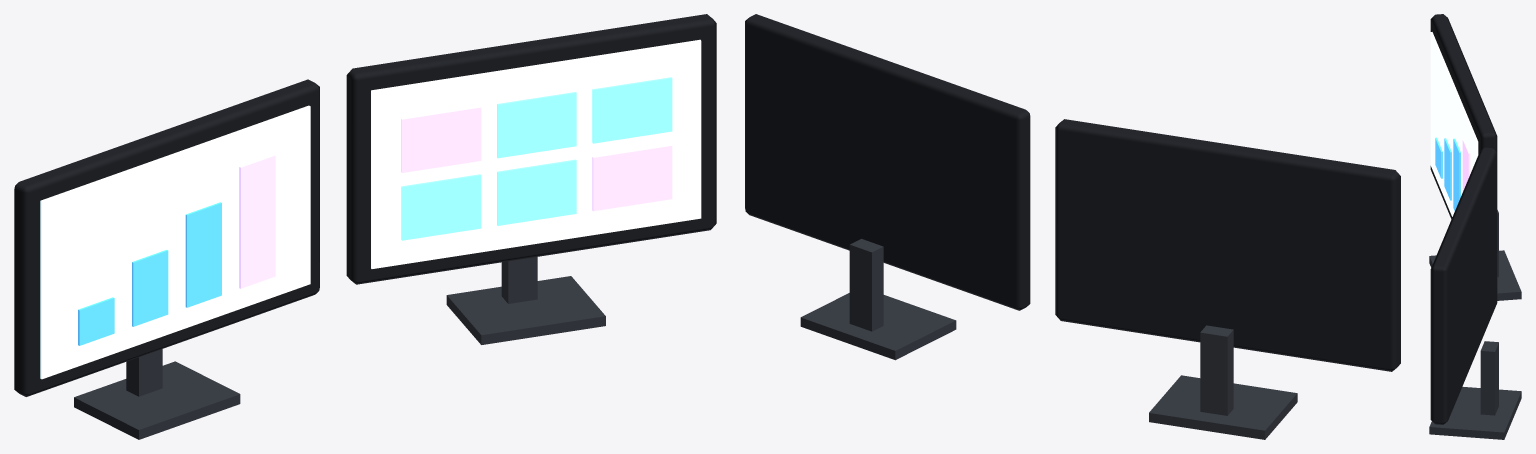
Rendered from station_processing_ausstattung_1_1.glb.
3 views of the same model, side by side, from view 1: azimuth 30°, elevation 25°; view 2: azimuth 150°, elevation 25°; view 3: azimuth 270°, elevation 25° (orthographic). The views are drawn at different scales.
Visible parts, largest first — view 1: station_processing_ausstattung_1_1; view 2: station_processing_ausstattung_1_1; view 3: station_processing_ausstattung_1_1.
Boxes of the visible parts, <box> form: station_processing_ausstattung_1_1: <box>14,14,716,439</box>; station_processing_ausstattung_1_1: <box>745,14,1400,439</box>; station_processing_ausstattung_1_1: <box>1429,14,1521,439</box>.
Size of the model in its own units: 1.03 by 0.394 by 0.1575.
